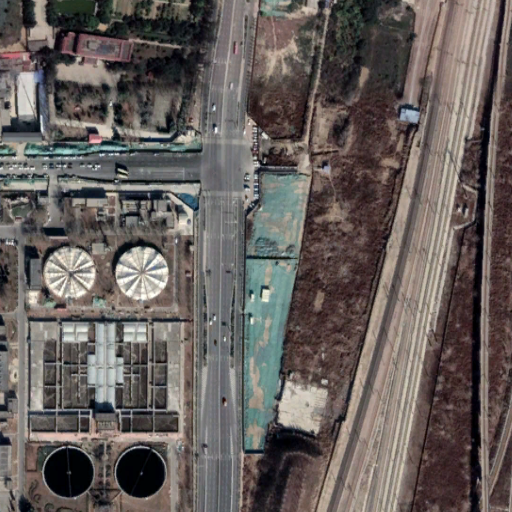cw: (239, 166, 312, 459), (20, 138, 205, 156)
